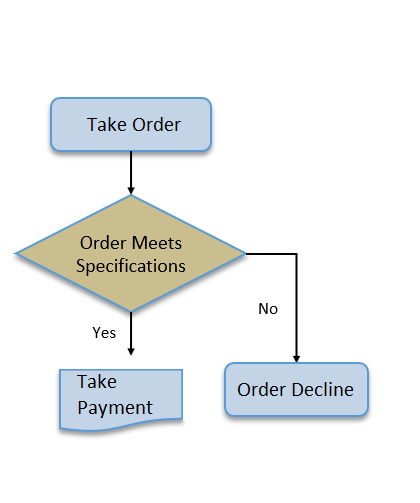arrow: (243, 250, 302, 363), (125, 150, 139, 196), (127, 309, 137, 357)
process: (10, 193, 251, 314), (46, 94, 214, 156), (220, 360, 370, 420), (56, 367, 187, 435)
text: (73, 233, 189, 276), (75, 371, 156, 420), (235, 378, 356, 401), (84, 112, 183, 133), (91, 323, 117, 341), (256, 300, 279, 315)
